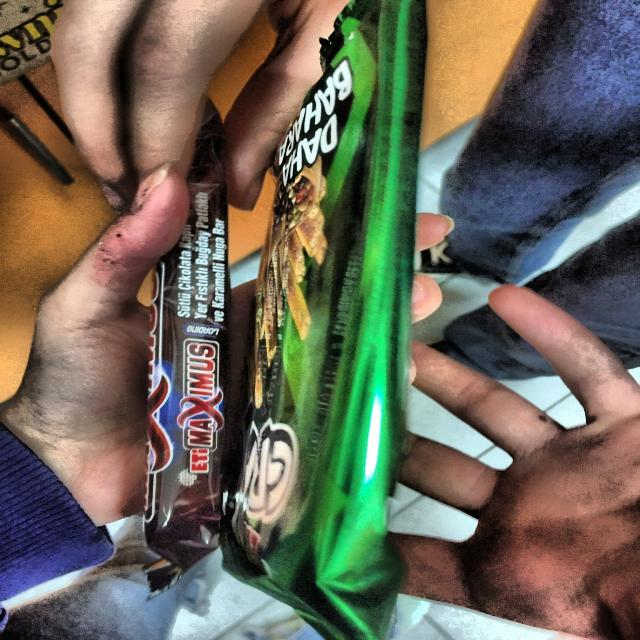Plastic: (240, 1, 458, 625), (96, 116, 255, 614)
